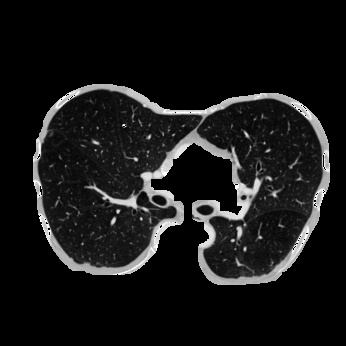PN: (122, 123, 126, 127)
